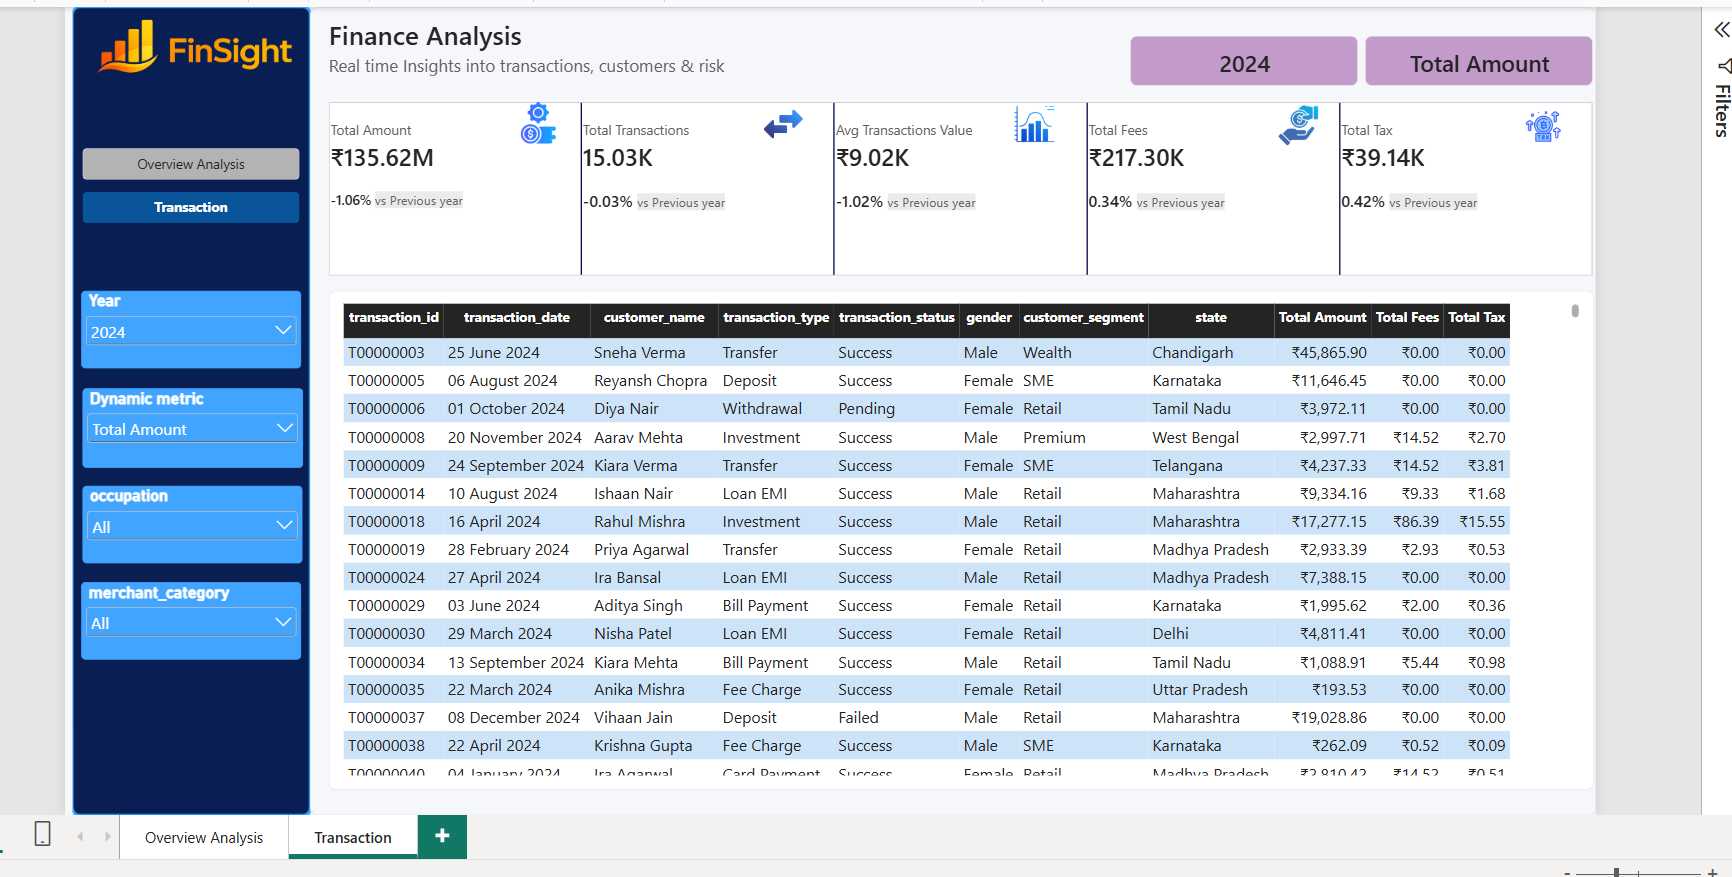

Layout of this report page (visuals, bound fields, positions):
{"tool":"powerbi","page":{"name":"Transaction","canvas":[1800,950],"ordinal":1},"visuals":[{"type":"shape","box":[9.3,0,279.6,950],"z":0},{"type":"shape","box":[288.1,0,1511.1,950],"z":1000},{"type":"image","box":[0,0,310.2,93.2],"z":2000},{"type":"cardVisual","fields":{"Data":["finance_transactions.Dashboard title"]},"box":[310,0,510.8,93.3],"z":3000},{"type":"cardVisual","fields":{"Data":["finance_transactions.Total Amount","finance_transactions.Total Transactions","finance_transactions.Avg Transactions Value","finance_transactions.Total Fees","finance_transactions.Total Tax"]},"box":[310,111,1486.5,204.3],"z":4000},{"type":"image","box":[531.9,111,49,49],"z":5000},{"type":"image","box":[1424.9,114.5,49,49],"z":6000},{"type":"image","box":[1114.9,112.7,49,49],"z":7000},{"type":"image","box":[1711.9,116.2,49,49],"z":8000},{"type":"image","box":[819,112.7,49,49],"z":9000},{"type":"cardVisual","fields":{"Data":["finance_transactions.Selected Year","finance_transactions.Selected Dynamic measure"]},"box":[1251.9,33.3,544.4,59.3],"z":10000},{"type":"tableEx","fields":{"Values":["finance_transactions.transaction_id","finance_transactions.transaction_date","customers.customer_name","finance_transactions.transaction_type","finance_transactions.transaction_status","customers.gender","customers.customer_segment","customers.state","finance_transactions.Total Amount","finance_transactions.Total Fees","finance_transactions.Total Tax"]},"box":[310.2,333.9,1486.4,586.4],"z":11000},{"type":"slicer","fields":{"Values":["Calendar Table.Year"]},"box":[18.6,333.9,258.4,91.6],"z":12000},{"type":"slicer","fields":{"Values":["Dynamic metric.Dynamic metric"]},"box":[20.3,447.5,258.9,93.3],"z":13000},{"type":"slicer","fields":{"Values":["customers.occupation"]},"box":[20.3,562.7,258.4,91.6],"z":14000},{"type":"slicer","fields":{"Values":["finance_transactions.merchant_category"]},"box":[18.6,676.3,258.4,91.6],"z":15000},{"type":"pageNavigator","box":[20.3,166.1,255.9,88.1],"z":16000}]}

Visuals, with their boxes on the page's 1800x950 design canvas (x1, y1, x2, y2). These are canvas units, not pixel positions in the 1732x877 screenshot, which may show the page scaled, cropped or inside an application window:
shape: pyautogui.locateOnScreen(9, 0, 289, 950)
shape: pyautogui.locateOnScreen(288, 0, 1799, 950)
image: pyautogui.locateOnScreen(0, 0, 310, 93)
cardVisual - finance_transactions.Dashboard title: pyautogui.locateOnScreen(310, 0, 821, 93)
cardVisual - finance_transactions.Total Amount x finance_transactions.Total Transactions: pyautogui.locateOnScreen(310, 111, 1796, 315)
image: pyautogui.locateOnScreen(532, 111, 581, 160)
image: pyautogui.locateOnScreen(1425, 114, 1474, 164)
image: pyautogui.locateOnScreen(1115, 113, 1164, 162)
image: pyautogui.locateOnScreen(1712, 116, 1761, 165)
image: pyautogui.locateOnScreen(819, 113, 868, 162)
cardVisual - finance_transactions.Selected Year x finance_transactions.Selected Dynamic measure: pyautogui.locateOnScreen(1252, 33, 1796, 93)
tableEx - finance_transactions.transaction_id x finance_transactions.transaction_date: pyautogui.locateOnScreen(310, 334, 1797, 920)
slicer - Calendar Table.Year: pyautogui.locateOnScreen(19, 334, 277, 426)
slicer - Dynamic metric.Dynamic metric: pyautogui.locateOnScreen(20, 448, 279, 541)
slicer - customers.occupation: pyautogui.locateOnScreen(20, 563, 279, 654)
slicer - finance_transactions.merchant_category: pyautogui.locateOnScreen(19, 676, 277, 768)
pageNavigator: pyautogui.locateOnScreen(20, 166, 276, 254)
